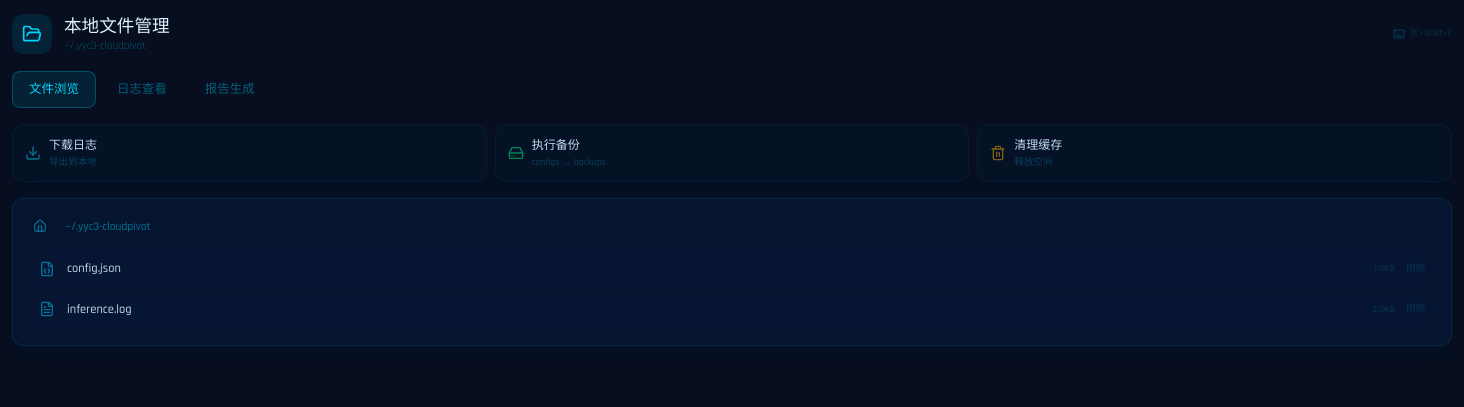
LocalFileManager › should switch to LogViewer when logs tab is clicked
The image size is (1464, 407).
Click the button with test id "tab-logs" at (142, 90), box x1=100 y1=71 x2=184 y2=108
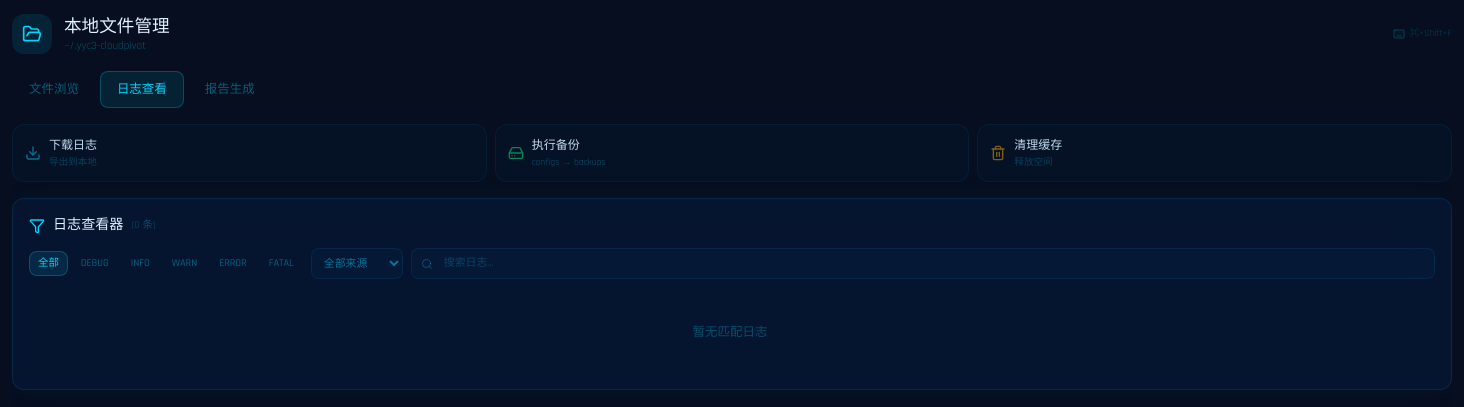
Now the element with test id "log-viewer" is shown, box x1=12 y1=198 x2=1452 y2=390
